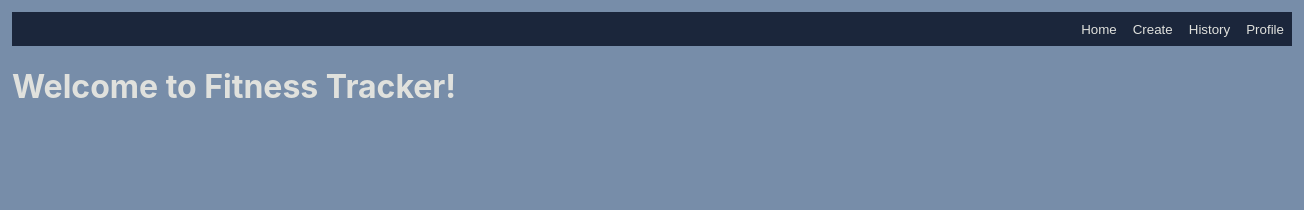
Navigate to Create screen
The width and height of the screenshot is (1304, 210).
Click the button "Create".
click(1153, 29)  # box [1127, 14, 1179, 44]
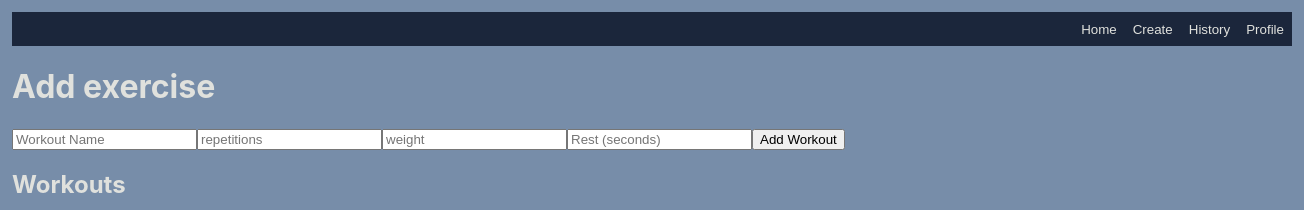
Expected: the heading "Add exercise" is shown, [12, 67, 215, 106]
